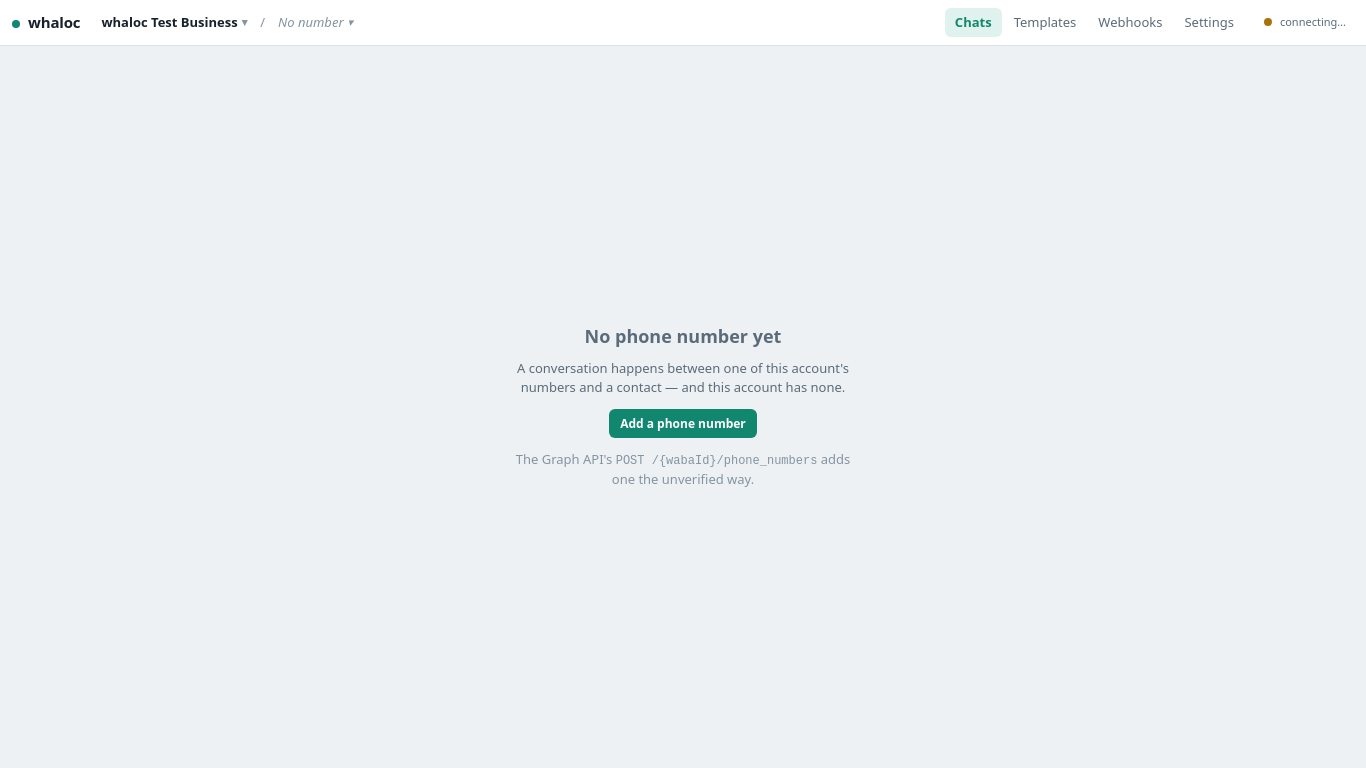
Test case: App › an empty whaloc › offers to add the first number of an account that has none
Click the button "Add a phone number" at (683, 423), box top-left (609, 409), bottom-right (757, 438)
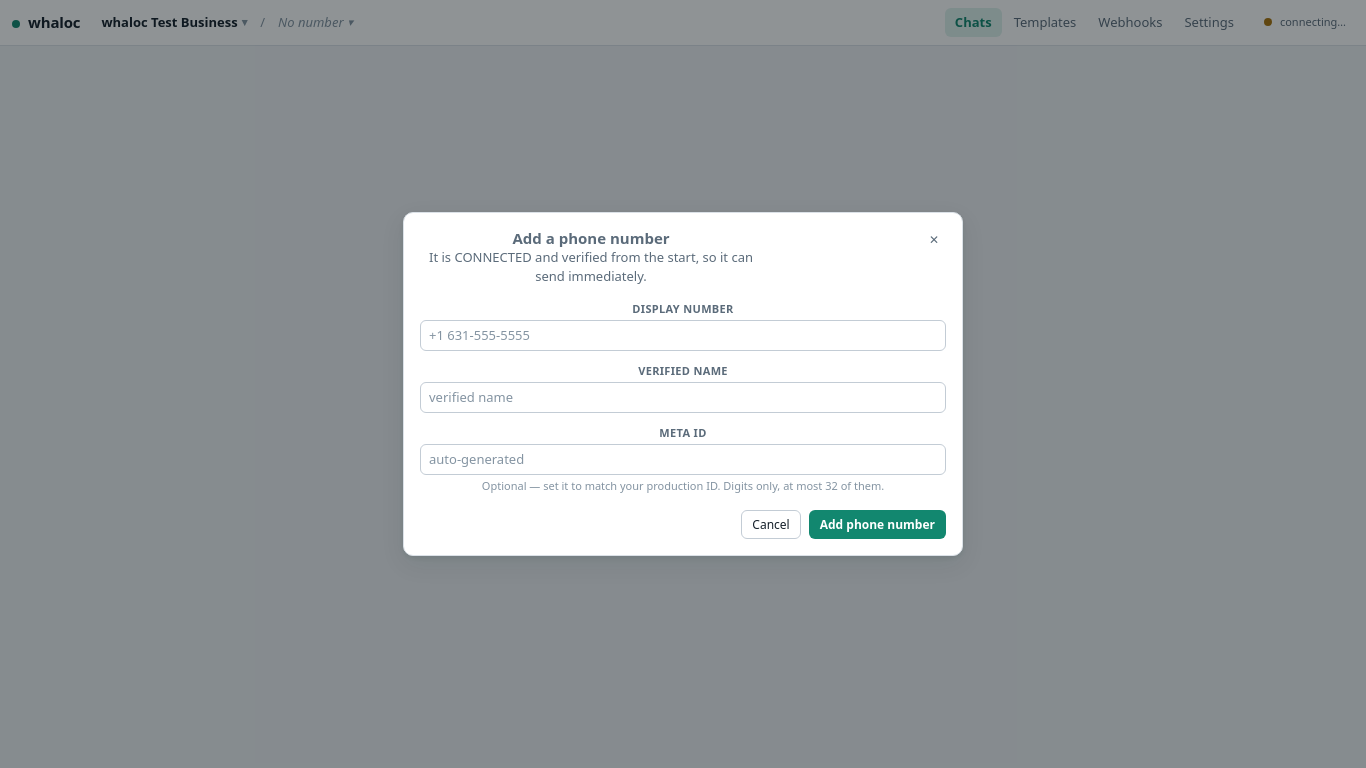
Now the dialog "Add a phone number" is shown, box top-left (403, 212), bottom-right (963, 556)
